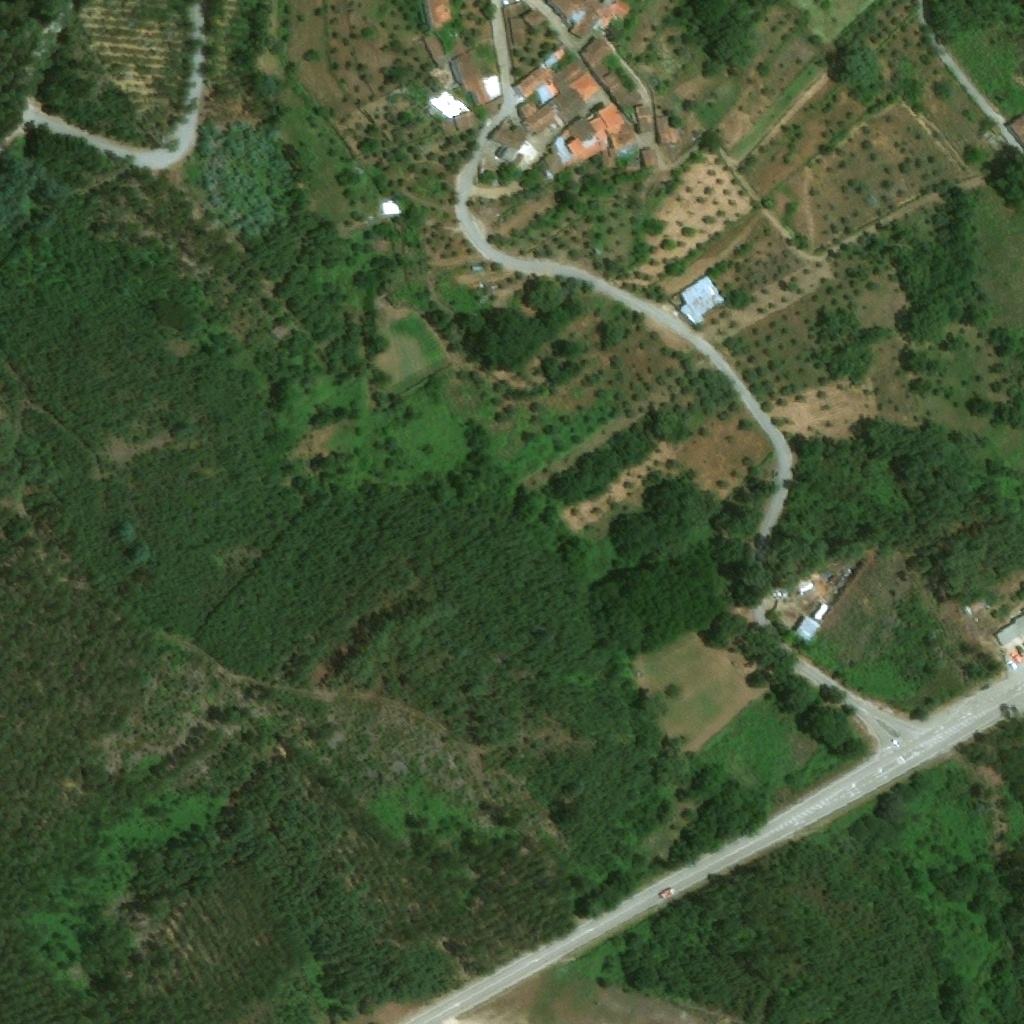0 no-damage: (512, 47, 603, 134), (541, 102, 642, 177), (580, 36, 645, 111), (543, 0, 634, 40), (449, 50, 501, 106), (674, 273, 727, 327), (488, 117, 529, 151), (992, 614, 1023, 649), (424, 32, 450, 66), (423, 0, 455, 27), (656, 116, 683, 144), (453, 110, 478, 131), (635, 105, 653, 134), (524, 9, 548, 28), (510, 18, 527, 44), (484, 96, 504, 118), (270, 322, 293, 341), (813, 602, 832, 623), (498, 148, 519, 164), (641, 148, 659, 166), (990, 125, 1002, 136)
4 un-classified: (1006, 112, 1023, 148)
